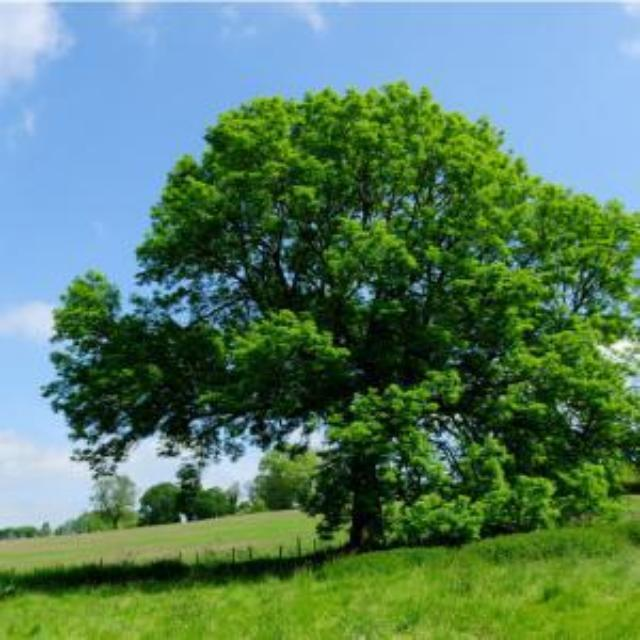tree: (40, 80, 638, 556)
